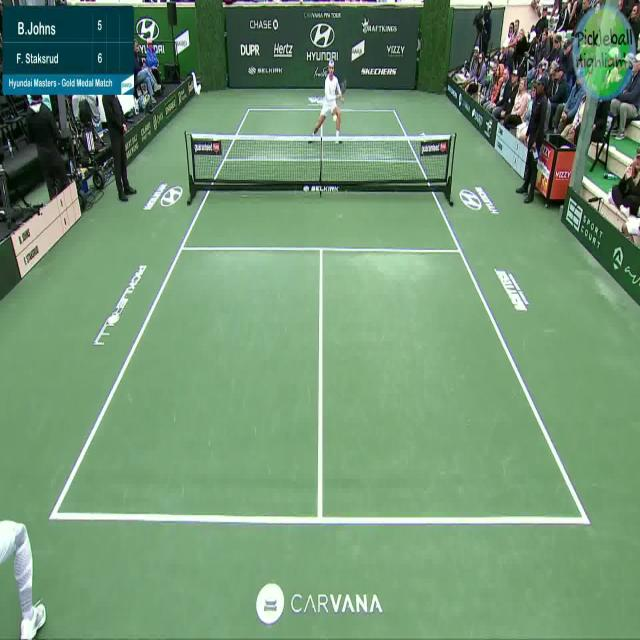ball: (330, 110, 339, 123)
